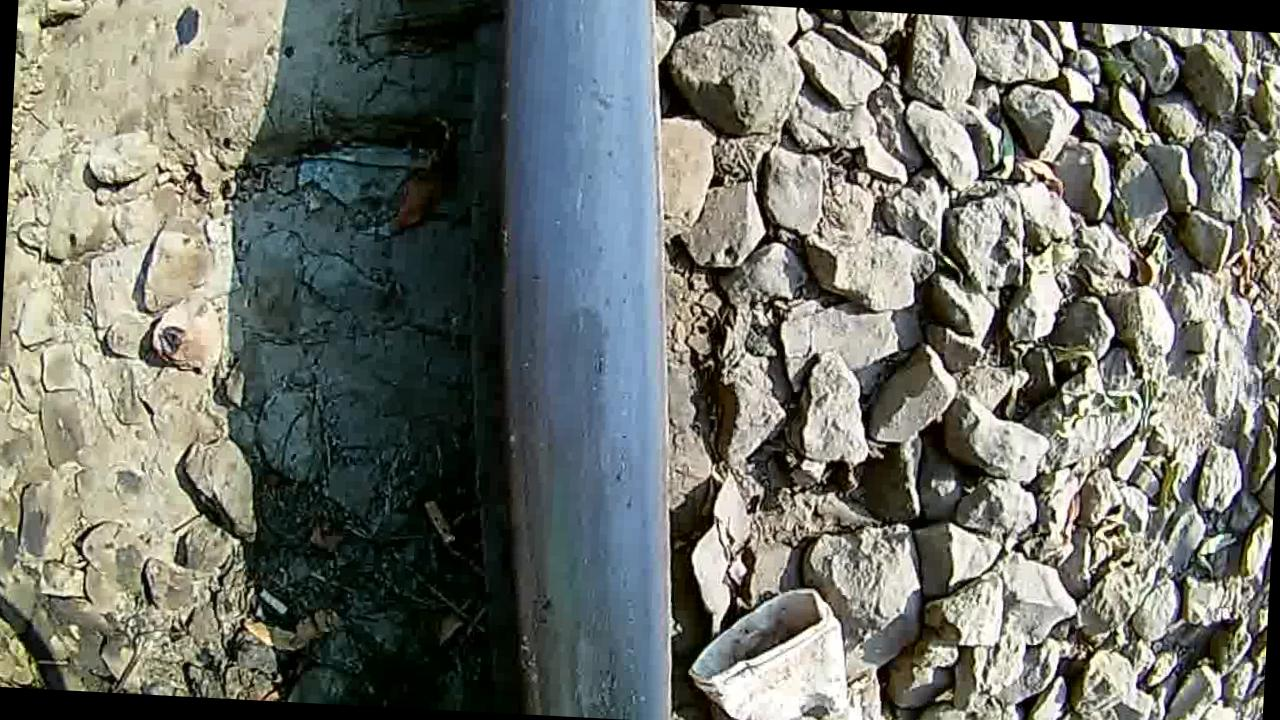bolt_missing: (465, 250, 702, 720)
